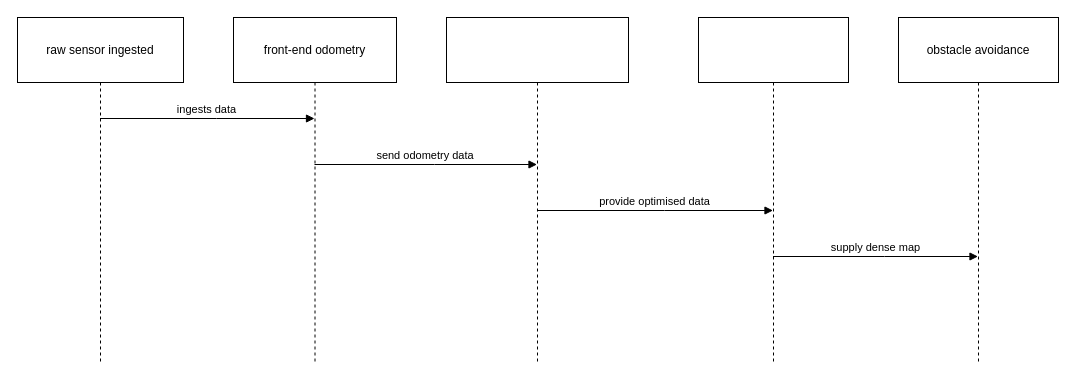
Image size: 1076x379. Some labels were removed from this diagram. Each missing label, with the box of its shape:
back‑end optimisation: (446, 16, 628, 362)
dense mapping: (698, 16, 848, 362)
